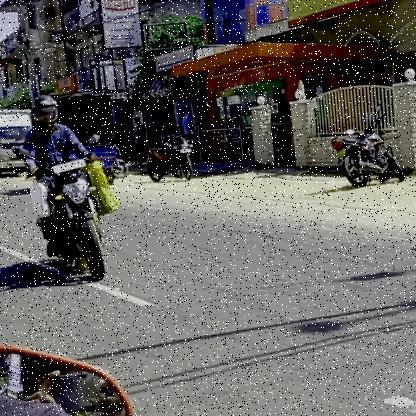motorcycle: (21, 150, 129, 296)
